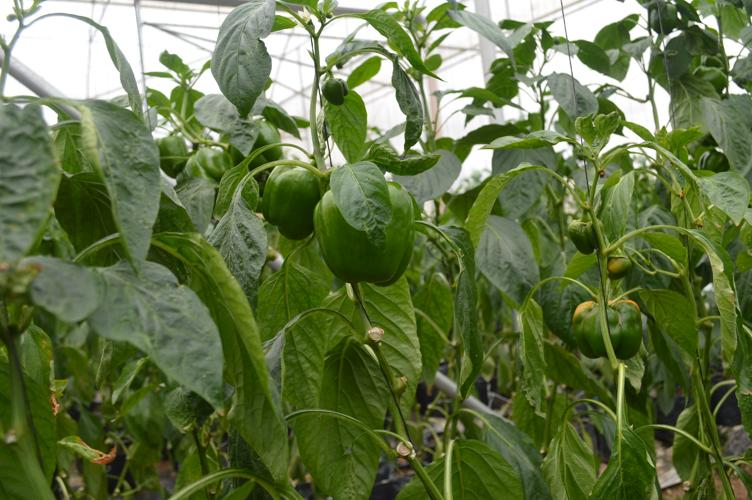BellPepper: (312, 185, 426, 289), (251, 157, 328, 239), (571, 294, 644, 361), (176, 144, 237, 194), (232, 112, 294, 158), (562, 203, 602, 259), (317, 68, 354, 105)
